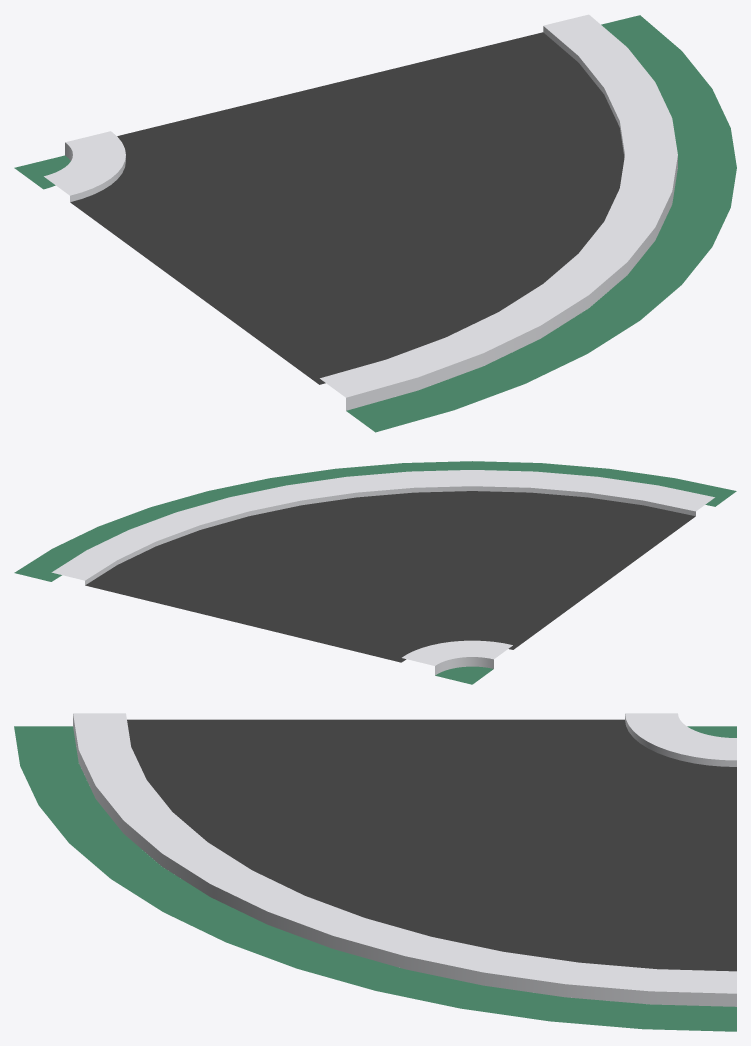
File: road-corner-small.glb
3 views of the same model, one above another, from view 1: azimuth 30°, elevation 25°; view 2: azimuth 150°, elevation 25°; view 3: azimuth 270°, elevation 25° (orthographic). The views are drawn at different scales.
Visible parts, largest first — view 1: roadCornerSmall; view 2: roadCornerSmall; view 3: roadCornerSmall.
Part boxes in pixels (x1,y1,x2,y2): roadCornerSmall: (14,14,736,432); roadCornerSmall: (14,461,736,684); roadCornerSmall: (14,713,736,1031).
Bounding box in the file's own units: 1 × 0.02 × 1.
